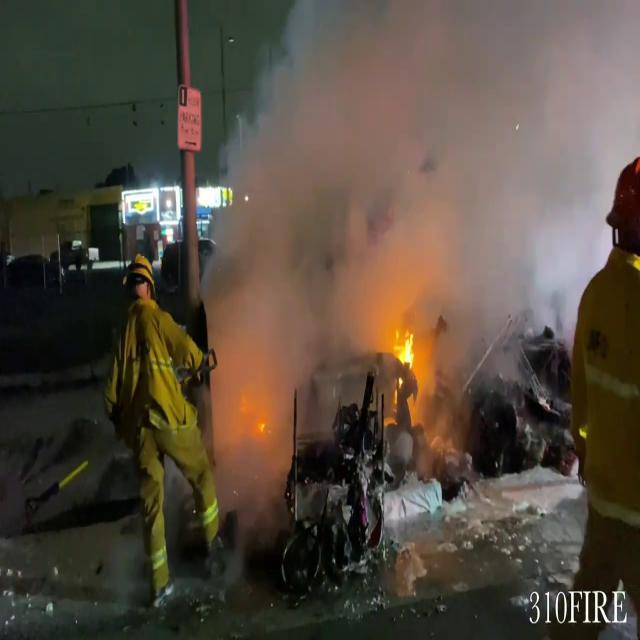Fire: (386, 322, 424, 402)
Smoke: (197, 0, 601, 402)
